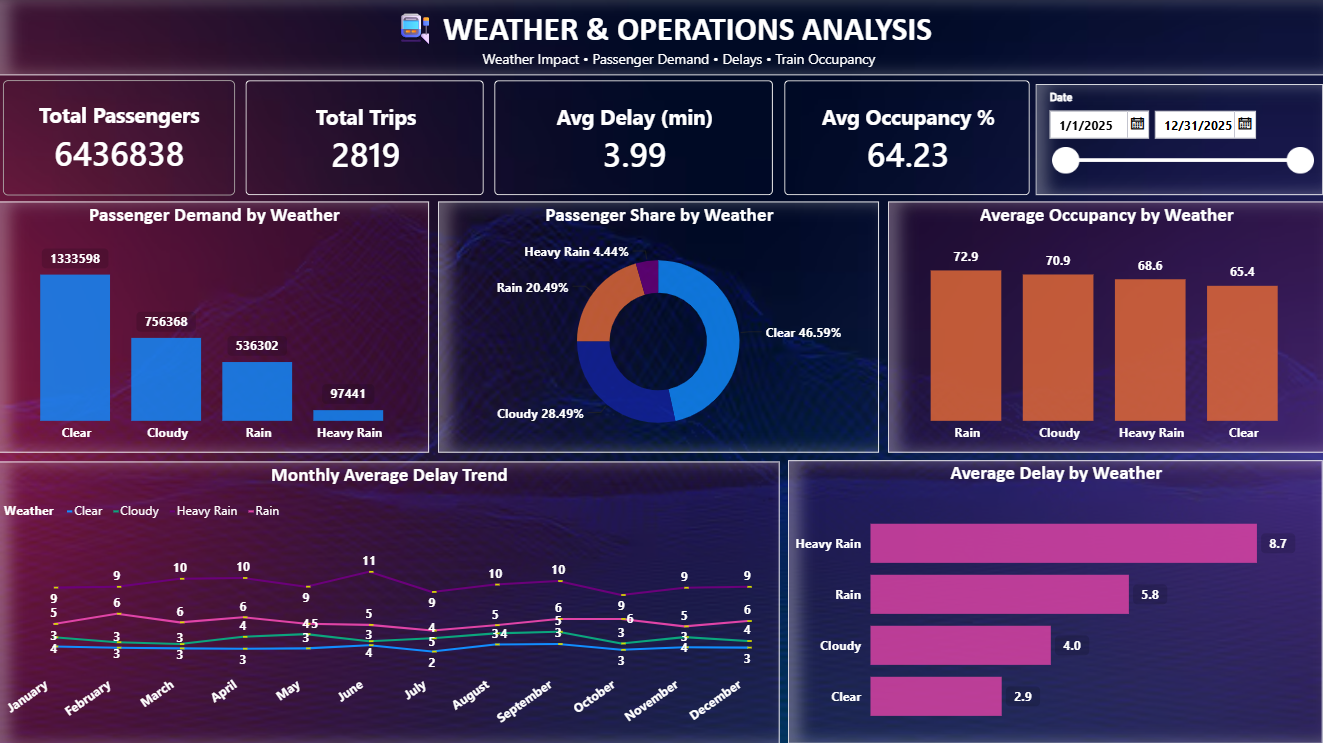

The dashboard page shown, as its layout file describes it:
{"tool":"powerbi","page":{"name":"Wheather & Operations analysis","canvas":[1280,720],"ordinal":2},"visuals":[{"type":"textbox","box":[0,0,1280.3,73.4],"z":0},{"type":"clusteredColumnChart","title":"Passenger Demand by Weather","fields":{"Category":["Dim_Weather.Weather"],"Y":["fact train operations.Total Passengers"]},"box":[0,195.4,416.2,242.5],"z":1000},{"type":"barChart","title":"Average Delay by Weather","fields":{"Category":["Dim_Weather.Weather"],"Y":["fact train operations.Avg Delay (min)"]},"box":[762.5,445.2,516.4,273.9],"z":2000},{"type":"columnChart","title":"Average Occupancy by Weather","fields":{"Category":["Dim_Weather.Weather"],"Y":["fact train operations.Avg Occupancy %"]},"box":[859,195.4,421,242.5],"z":3000},{"type":"lineChart","title":"Monthly Average Delay Trend","fields":{"Category":["Dim_Date.Date.Variation.Date Hierarchy.Month"],"Series":["Dim_Weather.Weather"],"Y":["fact train operations.Avg Delay (min)"]},"box":[0,446.4,754,273.9],"z":4000},{"type":"donutChart","title":"Passenger Share by Weather","fields":{"Category":["Dim_Weather.Weather"],"Y":["fact train operations.Total Passengers"]},"box":[424.7,195.4,425.9,242.5],"z":5000},{"type":"cardVisual","title":"Avg Route Distance","fields":{"Data":["fact train operations.Total Trips"]},"box":[234,73.6,240.1,121.9],"z":6000},{"type":"cardVisual","title":"Avg Estimated Fare","fields":{"Data":["fact train operations.Avg Delay (min)"]},"box":[474.1,73.6,279.9,121.9],"z":7000},{"type":"cardVisual","title":"Avg Passenger/Trip","fields":{"Data":["fact train operations.Avg Occupancy %"]},"box":[754,73.6,247.3,121.9],"z":8000},{"type":"slicer","fields":{"Values":["Dim_Date.Date"]},"box":[1001.3,82,277.5,107.4],"z":9000},{"type":"cardVisual","title":"Total Stations","fields":{"Data":["fact train operations.Total Passengers"]},"box":[0,73.6,234,121.9],"z":10000}]}

Visuals, with their boxes in screenshot pixels (x1, y1, x2, y2), scaled from the page's 1280x720 canvas onto the 1323x743 screenshot:
textbox: box(0, 0, 1322, 76)
"Passenger Demand by Weather" clusteredColumnChart: box(0, 202, 430, 452)
"Average Delay by Weather" barChart: box(788, 459, 1322, 742)
"Average Occupancy by Weather" columnChart: box(888, 202, 1322, 452)
"Monthly Average Delay Trend" lineChart: box(0, 461, 779, 742)
"Passenger Share by Weather" donutChart: box(439, 202, 879, 452)
"Avg Route Distance" cardVisual: box(242, 76, 490, 202)
"Avg Estimated Fare" cardVisual: box(490, 76, 779, 202)
"Avg Passenger/Trip" cardVisual: box(779, 76, 1035, 202)
slicer - Dim_Date.Date: box(1035, 85, 1322, 195)
"Total Stations" cardVisual: box(0, 76, 242, 202)
